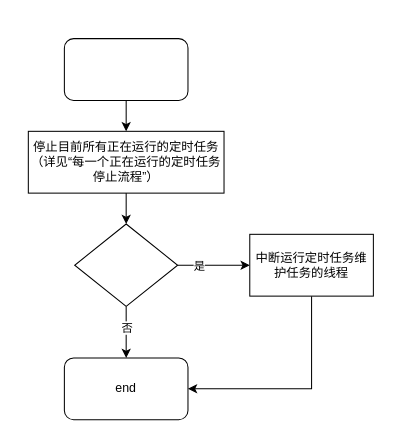
This 396x447 diagram has some shape labels left out. Here are the shapes that lost their labels. From the top down, the centre of each, then its label:
point (125, 69): start
point (126, 264): 运行定时任务维护任务的线程是否处于可用状态
